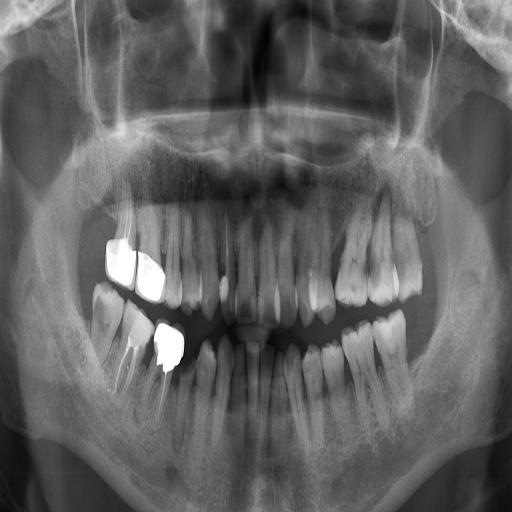Wisdom teeth: (91, 282, 123, 363)
